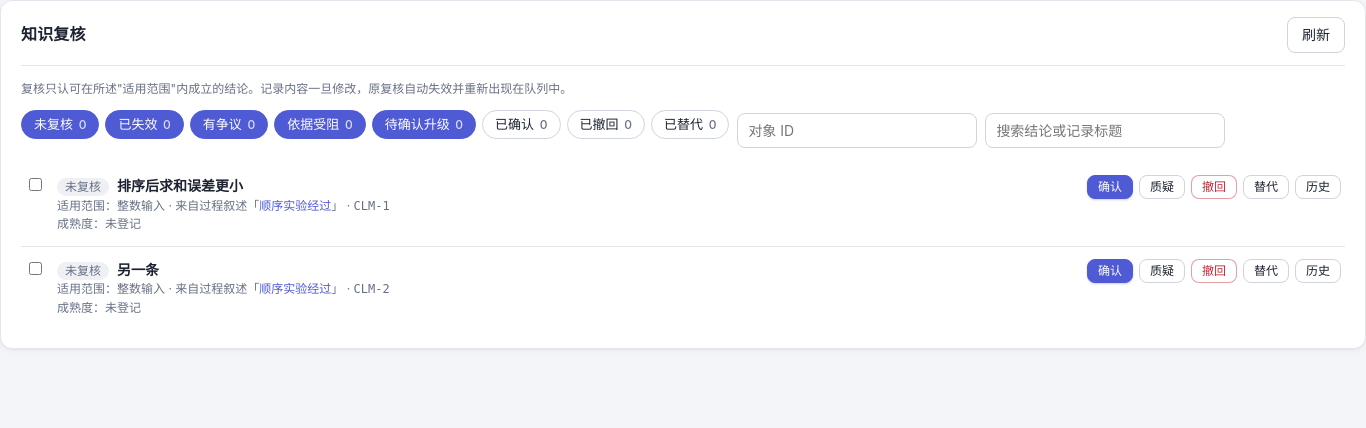
Test: 知识复核 › 批量质疑把所选结论一次提交
Expected: the text "另一条" is shown, [117, 261, 159, 278]
Click the checkbox named "选择 CLM-1": {"x": 36, "y": 184} [29, 178, 42, 191]
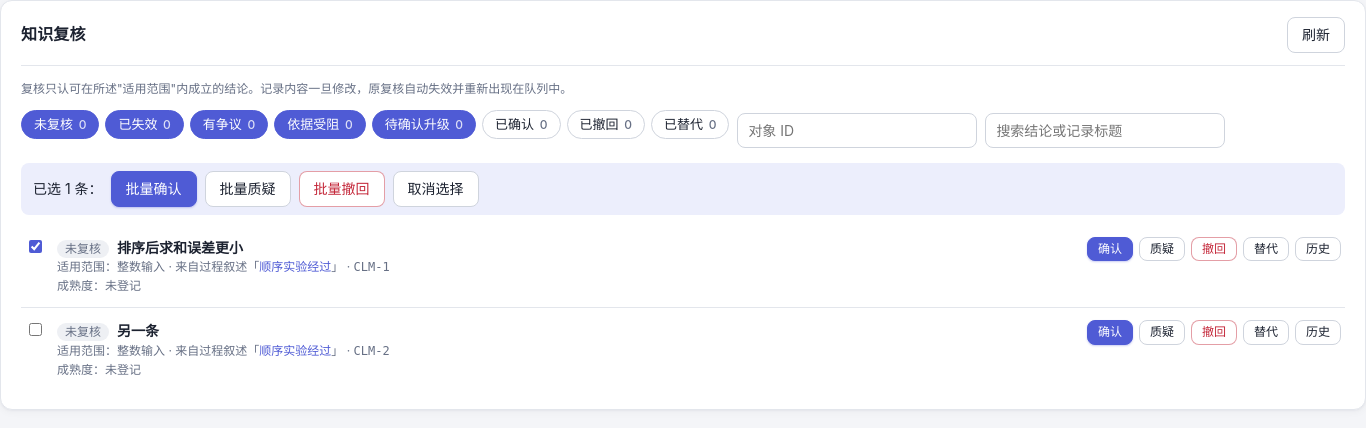
Click the checkbox named "选择 CLM-2": {"x": 36, "y": 330} [29, 323, 42, 336]
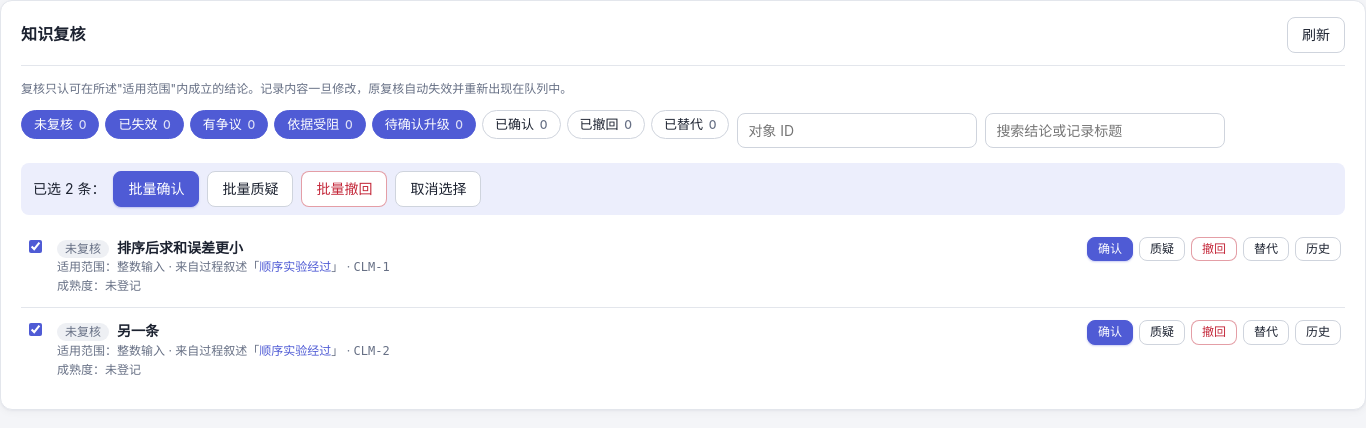
Click the button "批量质疑": {"x": 250, "y": 189} [207, 171, 293, 207]
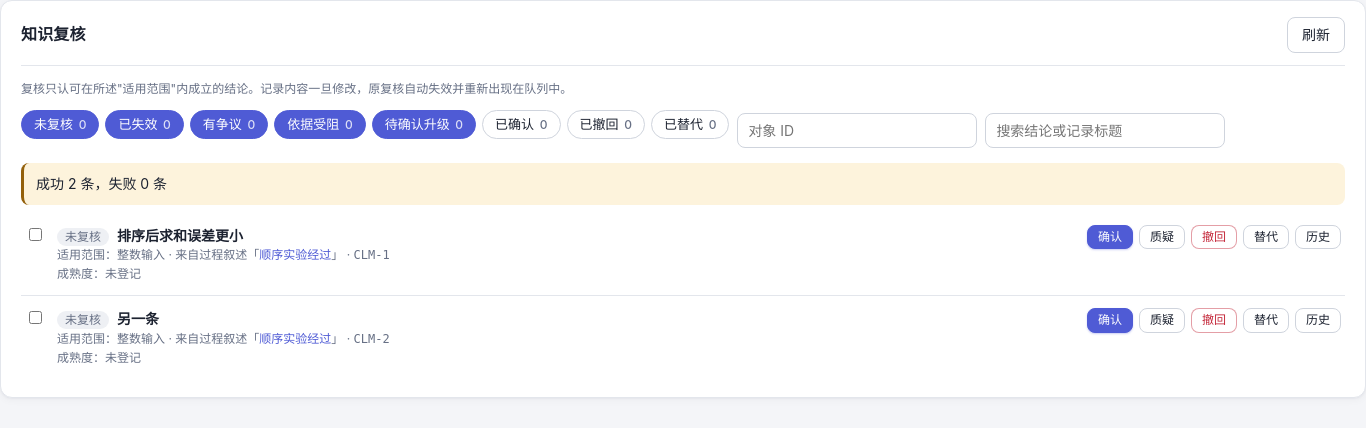
Now the text "成功 2 条，失败 0 条" is shown, box [21, 163, 1345, 205]
